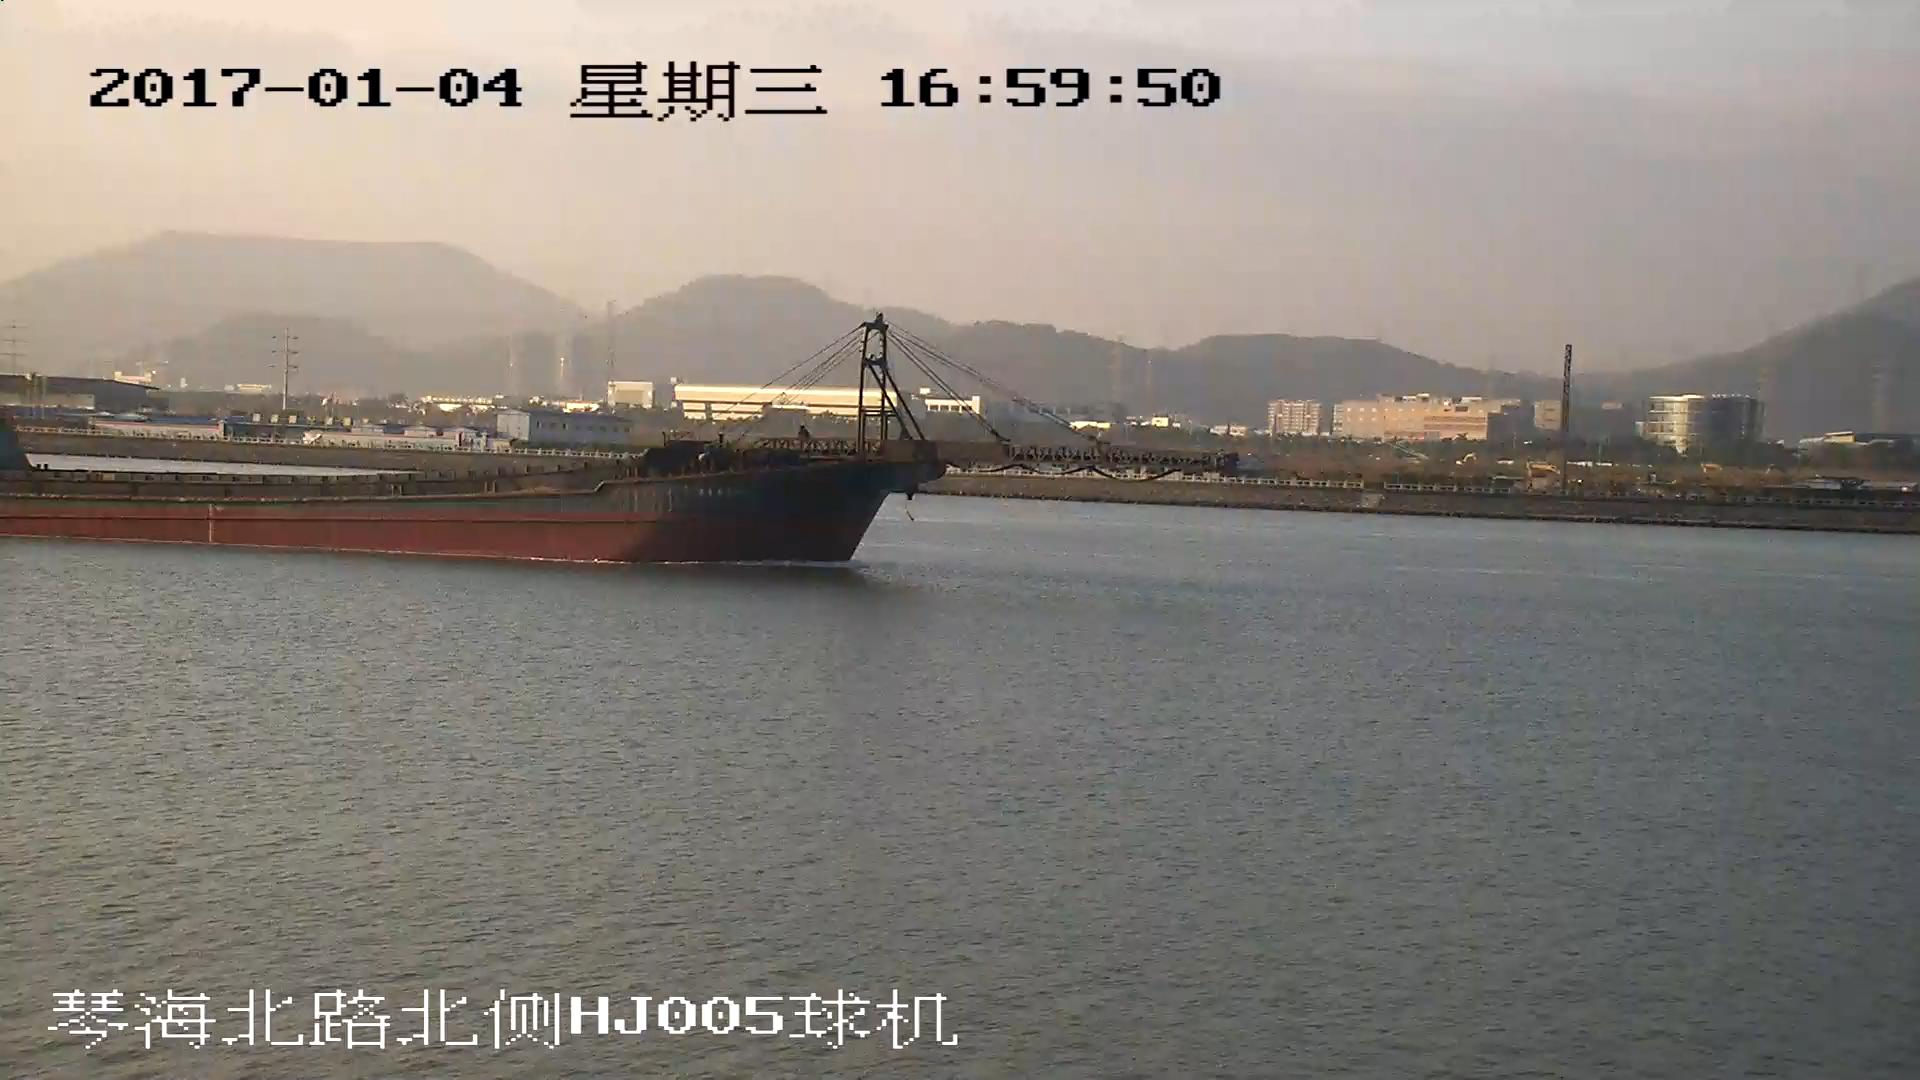bulk cargo carrier: (1, 317, 1179, 563)
